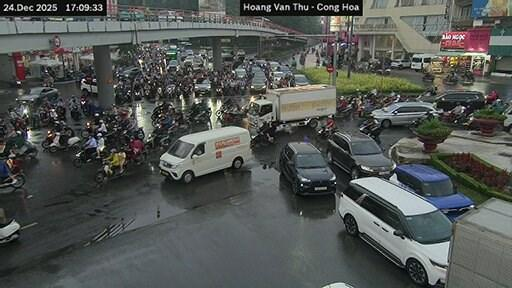motorbike: (0, 161, 24, 189), (144, 129, 172, 152), (93, 161, 122, 183), (74, 148, 106, 166), (358, 118, 380, 143), (48, 135, 80, 152), (0, 219, 19, 243), (408, 113, 434, 130), (15, 140, 37, 158), (250, 130, 272, 148), (316, 126, 336, 139), (80, 121, 95, 138), (41, 130, 54, 148), (127, 126, 144, 139), (336, 103, 351, 117), (70, 103, 80, 120), (442, 75, 457, 84), (460, 75, 473, 85), (10, 77, 21, 86), (423, 72, 434, 81)
